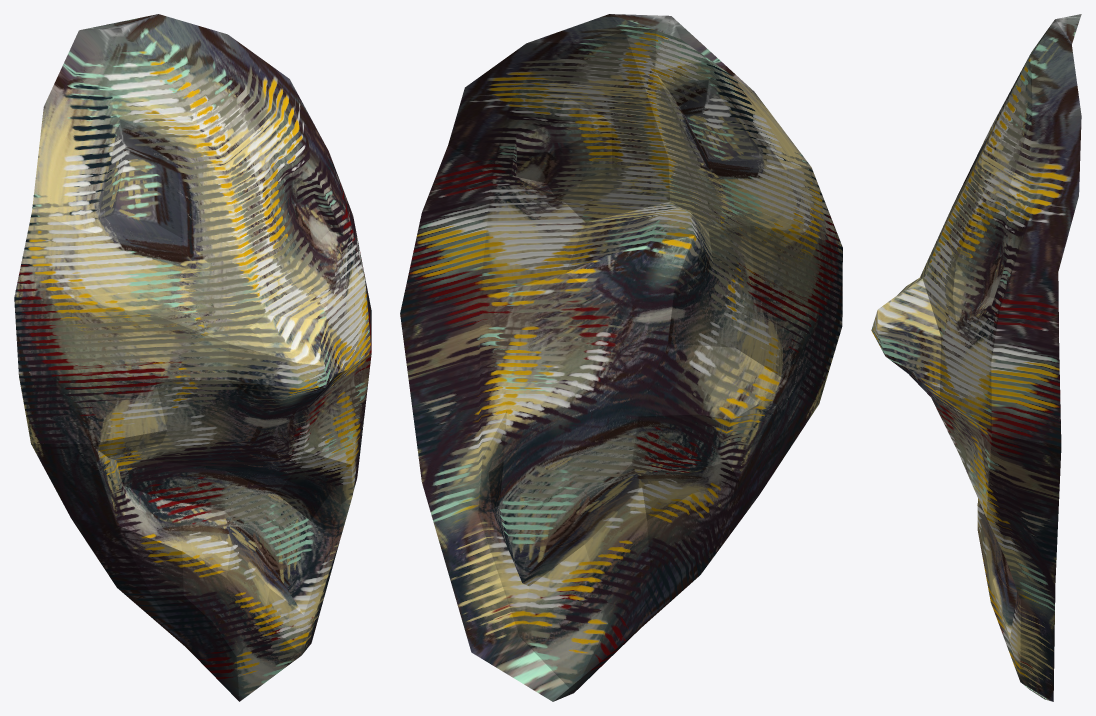
The model's file is maskata2.fbx.
The picture shows the model from 3 angles, left to right: view 1: azimuth 30°, elevation 25°; view 2: azimuth 150°, elevation 25°; view 3: azimuth 270°, elevation 25°; orthographic projection. The views are drawn at different scales.
Parts seen in each view (by area): view 1: pSphere2; view 2: pSphere2; view 3: pSphere2.
Part boxes in pixels (x1,y1,x2,y2): pSphere2: (14, 14, 371, 701); pSphere2: (400, 14, 842, 701); pSphere2: (871, 14, 1081, 701).
Size of the model in its own units: 13.73 by 23.24 by 7.06.
Materials: 1 (1 with a texture image).
